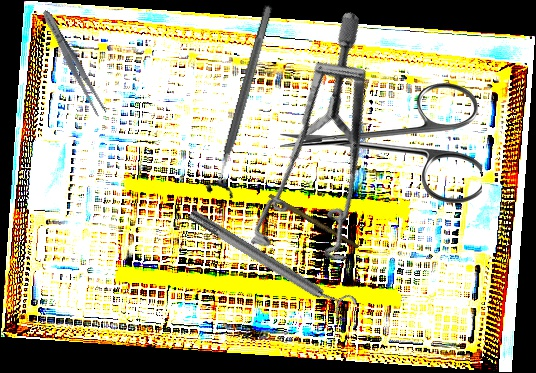Dressing Forceps: (38, 6, 109, 119)
Fixation Ring: (183, 199, 359, 326), (203, 1, 284, 200)
Iris Scissors: (280, 83, 482, 203)
Scalpel Handle: (266, 193, 361, 250)
Speculum: (182, 8, 473, 299)
